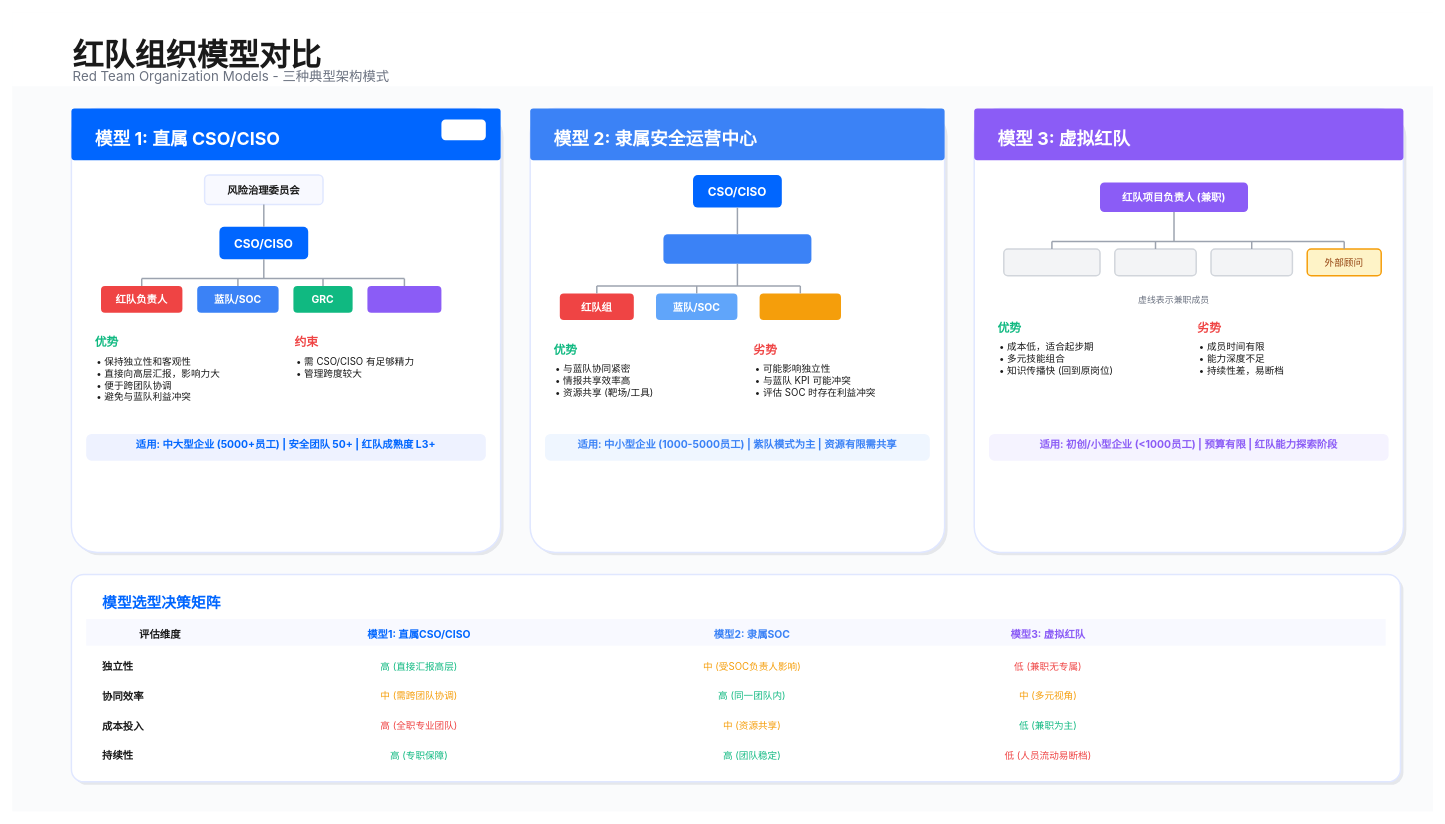
This 1445x824 diagram has some shape labels left out. Each missing label, with the centre of its shape:
SOC 分析师: (1251,262)
威胁情报组: (800,306)
安全工程: (404,299)
安全架构师: (1155,262)
安全运营中心负责人: (737,248)
应用安全工程师: (1051,262)
推荐: (463,129)
